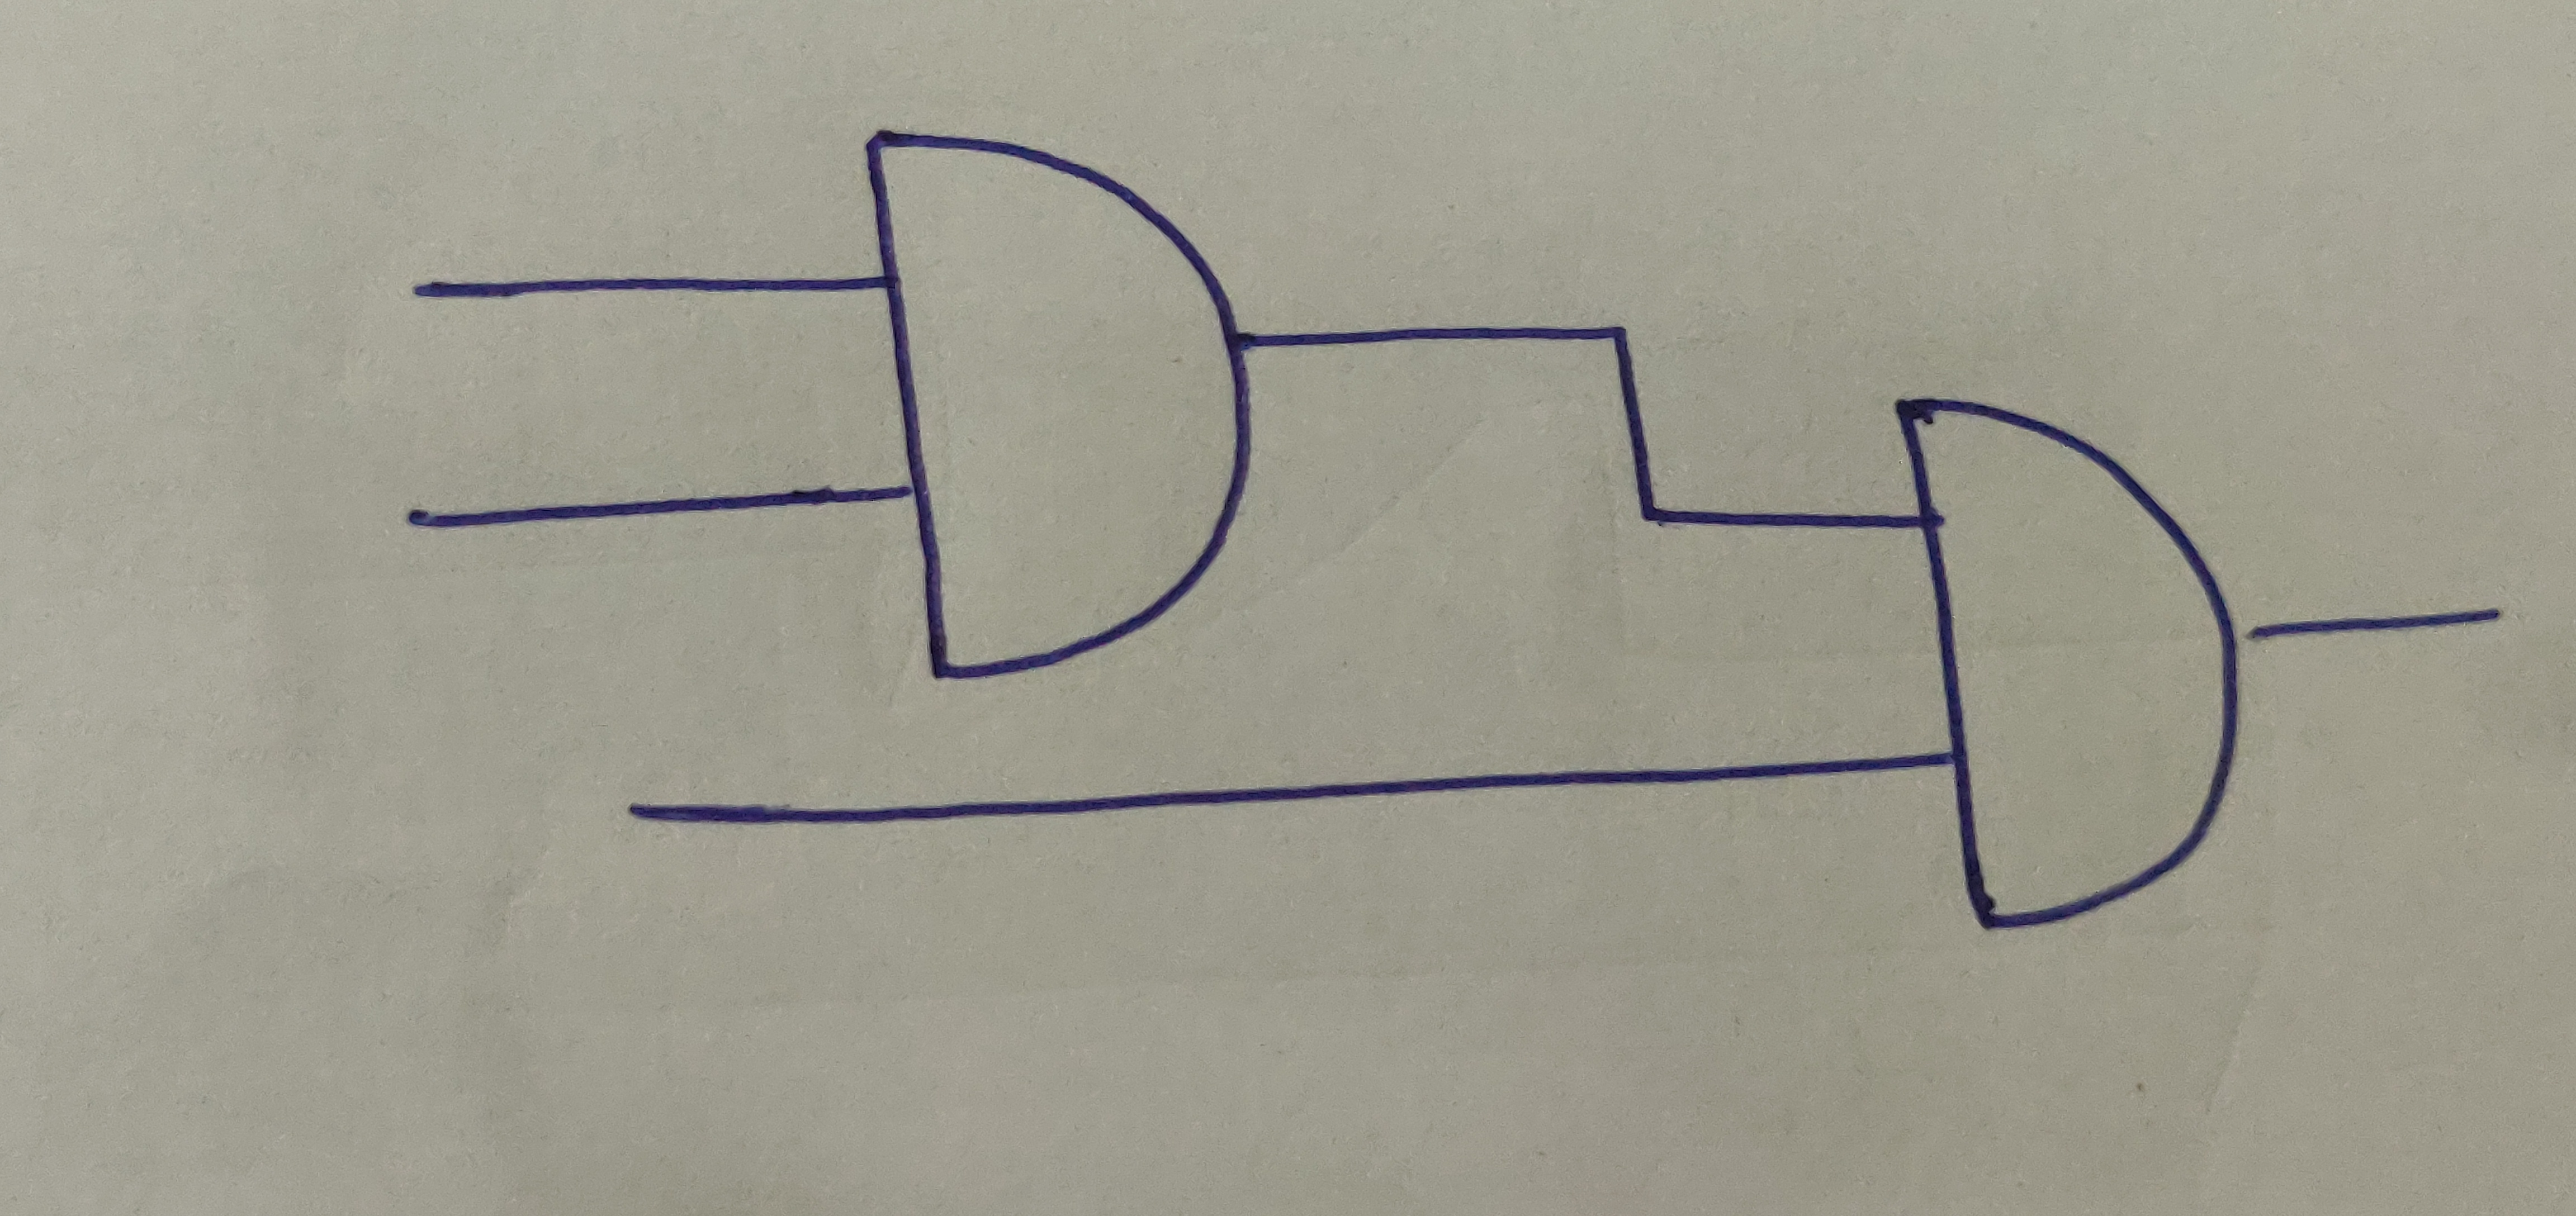and: (861, 128, 1255, 679), (1896, 394, 2236, 932)
